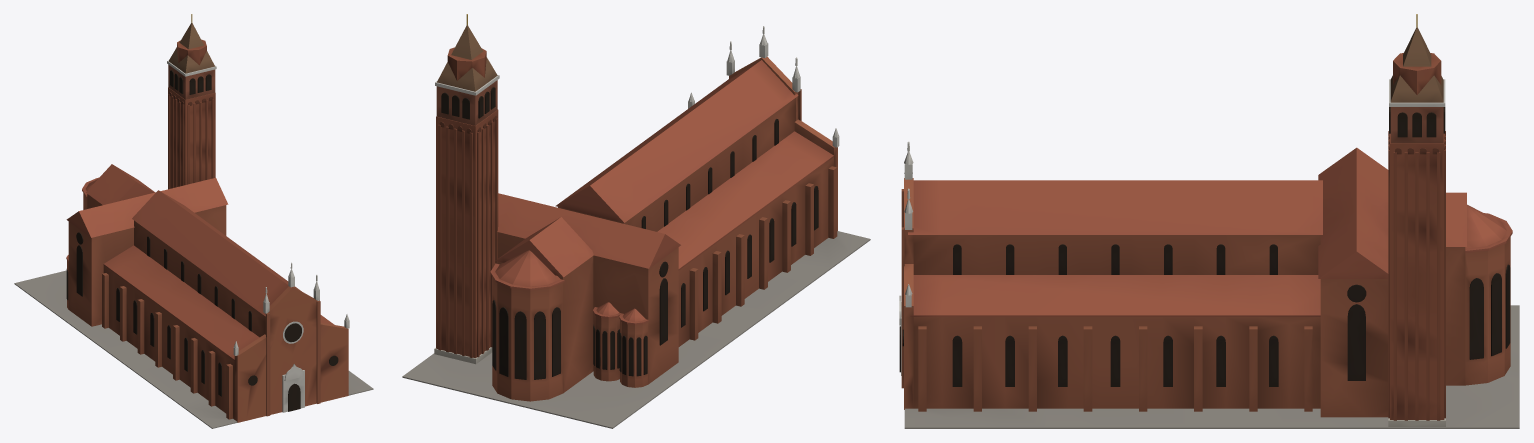
Rendered from frari.glb.
The picture shows the model from 3 angles, left to right: view 1: azimuth 30°, elevation 25°; view 2: azimuth 150°, elevation 25°; view 3: azimuth 270°, elevation 25°; orthographic projection. The views are drawn at different scales.
Parts seen in each view (by area): view 1: p1_roofs, p0_walls, p2_campanile; view 2: p0_walls, p1_roofs, p2_campanile; view 3: p0_walls, p1_roofs, p2_campanile.
Boxes of the visible parts, x1=… form: p1_roofs: x1=66, y1=164, x2=349, y2=422; p0_walls: x1=14, y1=177, x2=373, y2=428; p2_campanile: x1=167, y1=14, x2=216, y2=189; p0_walls: x1=402, y1=98, x2=870, y2=428; p1_roofs: x1=495, y1=26, x2=839, y2=277; p2_campanile: x1=434, y1=14, x2=499, y2=364; p0_walls: x1=904, y1=204, x2=1519, y2=428; p1_roofs: x1=899, y1=141, x2=1466, y2=409; p2_campanile: x1=1388, y1=14, x2=1445, y2=426.
Bounding box in the file's own units: 48 × 73.55 × 103.
